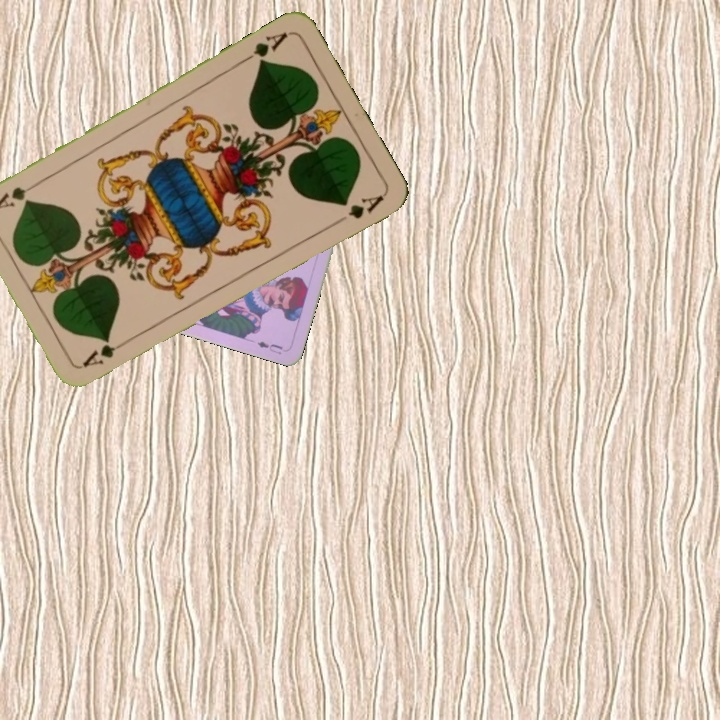GA: (238, 28, 291, 68), (78, 334, 133, 371)
